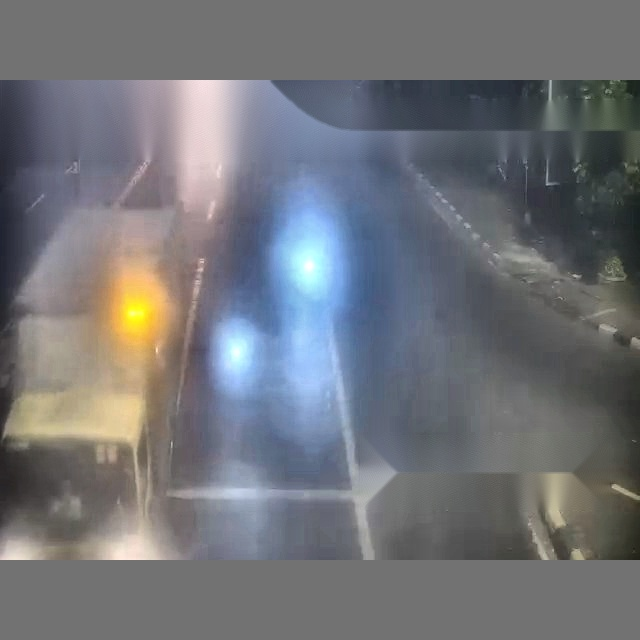Bis: (47, 84, 570, 552)
